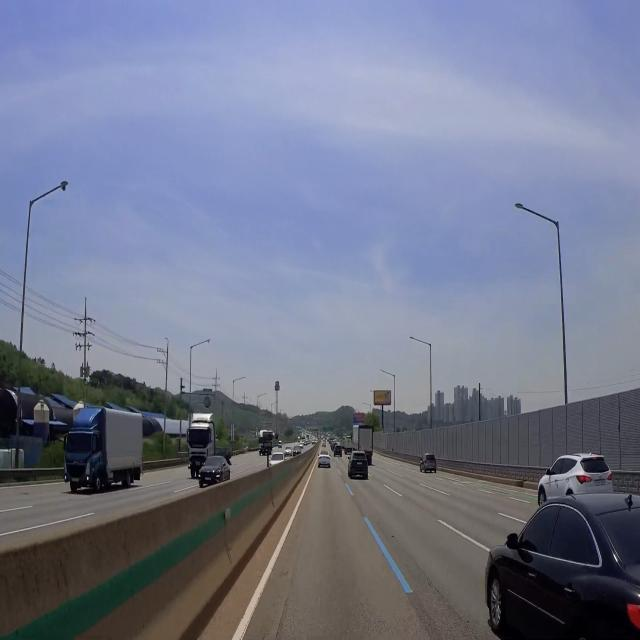car: (70, 475, 82, 485), (193, 457, 202, 469), (204, 476, 213, 483), (321, 461, 328, 467), (428, 465, 434, 471), (356, 461, 363, 466)
